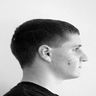ear: (34, 40, 55, 67)
